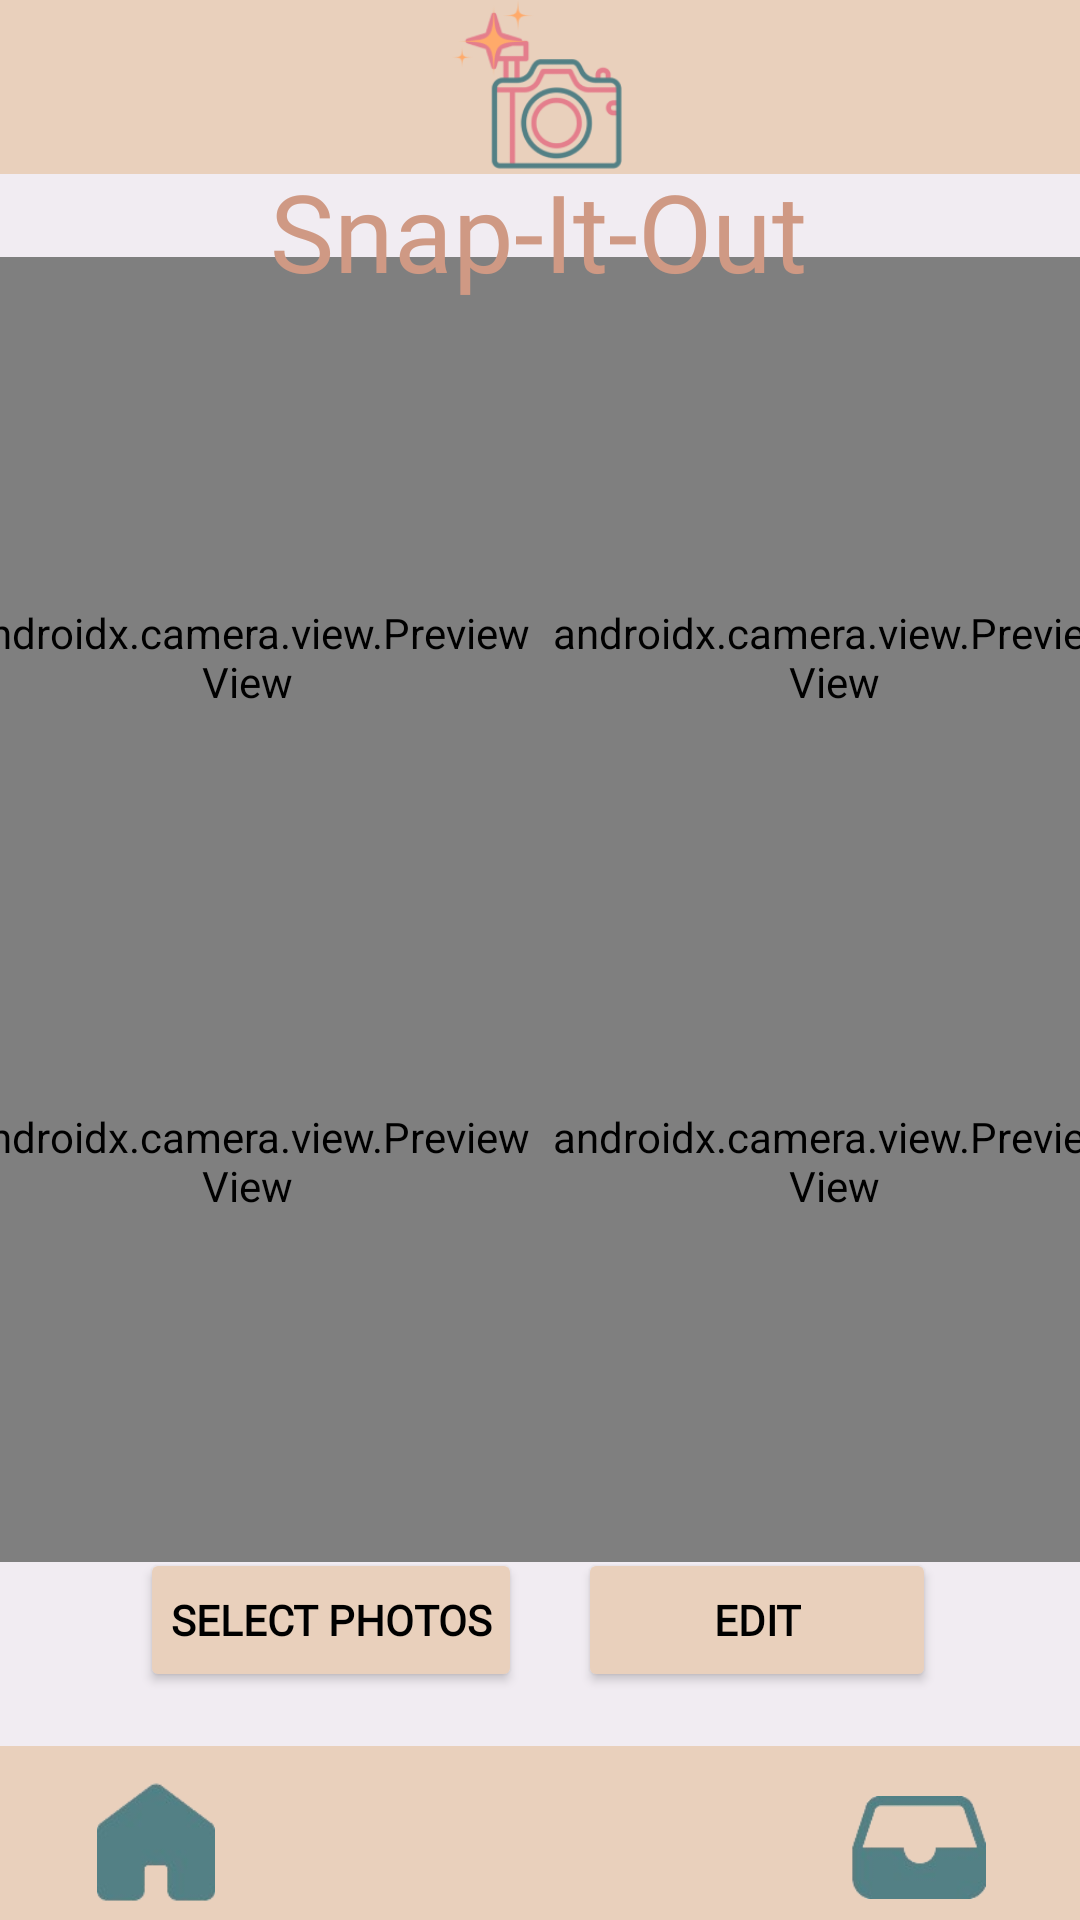

Where to tap for icons on this 1080 × 1920 app screen, as point (x, y):
home: point (156, 1842)
